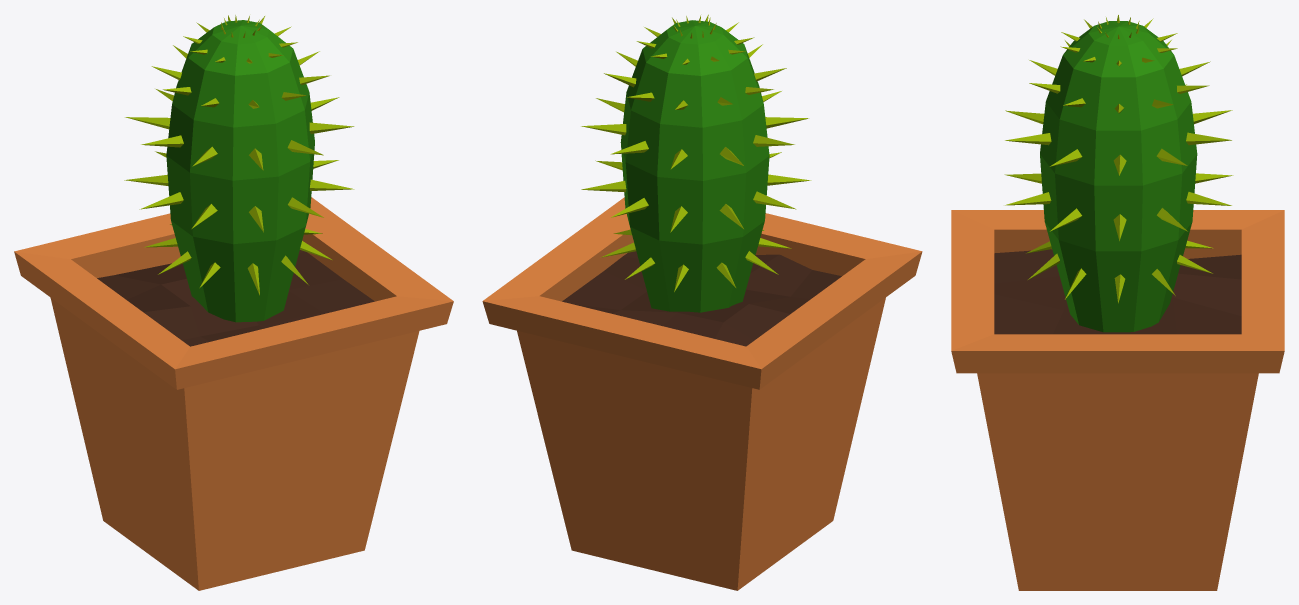
Rendered from cactus.fbx.
3 views of the same model, side by side, from view 1: azimuth 30°, elevation 25°; view 2: azimuth 150°, elevation 25°; view 3: azimuth 270°, elevation 25° (orthographic). The views are drawn at different scales.
Visible parts, largest first — view 1: H_Cactus; view 2: H_Cactus; view 3: H_Cactus.
Boxes of the visible parts, x1=… form: H_Cactus: x1=14, y1=15, x2=453, y2=590; H_Cactus: x1=482, y1=14, x2=922, y2=590; H_Cactus: x1=951, y1=15, x2=1284, y2=590.
Bounding box in the file's own units: 144 × 144 × 252.
